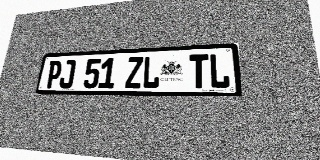1: (98, 58, 116, 88)
5: (83, 59, 101, 88)
J: (58, 60, 76, 88)
L: (209, 53, 230, 88), (142, 56, 160, 88)
P: (45, 60, 63, 88)
T: (189, 54, 209, 88)
Z: (125, 57, 143, 88)
